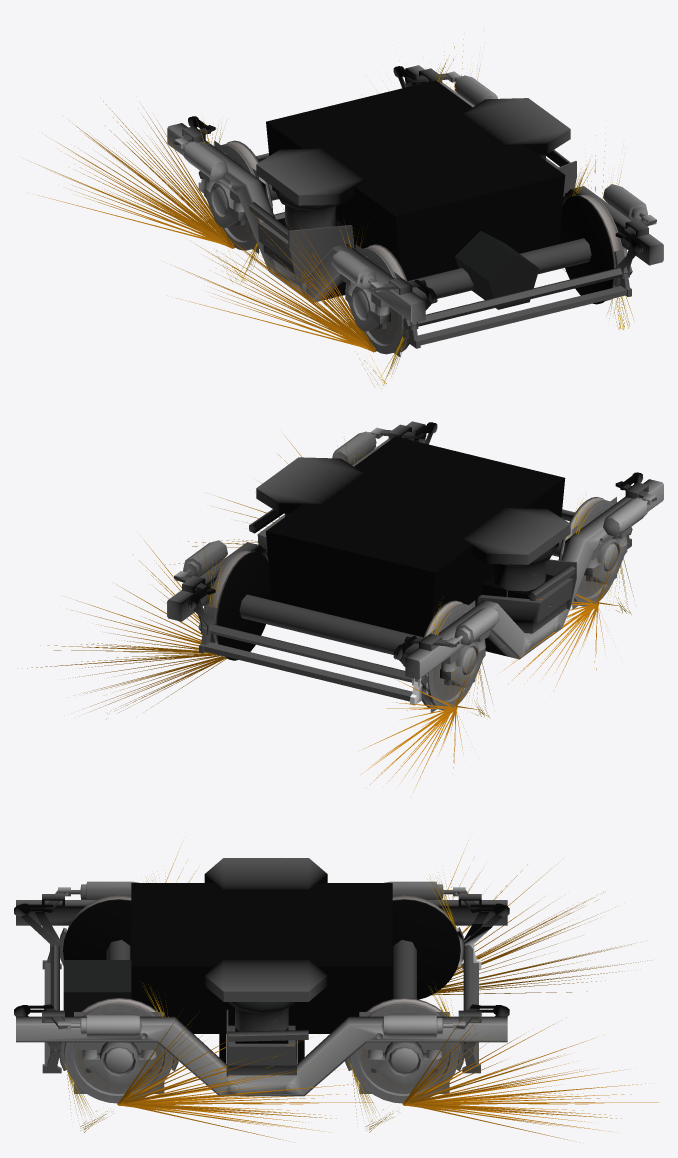
Rendered from JR2000_TRACK.glb.
3 renders of one model, top to bottom at view 1: azimuth 30°, elevation 25°; view 2: azimuth 150°, elevation 25°; view 3: azimuth 270°, elevation 25°, orthographic.
Parts seen in each view (by area): view 1: SPRING, HURIKO_BANK, obj13, FR1, SYAFT, FR0, WHEEL_FL, WFR_ROT, HURIKO, WFR_MDL, WRR_ROT, WHEEL_RR (+2 smaller); view 2: SPRING, HURIKO_BANK, SYAFT, Bar1, FL1, WHEEL_RL, FR1, HURIKO, FR0, WRR_ROT, WFR_ROT, WHEEL_RR (+3 smaller); view 3: SPRING, HURIKO_BANK, FL1, SYAFT, FL0, WHEEL_RR, WFR_MDL, FR1, WFL_ROT, WRL_ROT, obj13, Bar1 (+6 smaller).
Part boxes in pixels (left/top/right/bottom): SPRING: left=167, top=65, right=663, bottom=323; HURIKO_BANK: left=256, top=98, right=570, bottom=210; obj13: left=261, top=181, right=637, bottom=348; FR1: left=23, top=101, right=234, bottom=248; SYAFT: left=204, top=182, right=625, bottom=331; FR0: left=174, top=204, right=376, bottom=352; WHEEL_FL: left=559, top=194, right=622, bottom=304; WFR_ROT: left=355, top=244, right=401, bottom=357; HURIKO: left=277, top=155, right=545, bottom=230; WFR_MDL: left=358, top=244, right=409, bottom=354; WRR_ROT: left=214, top=140, right=258, bottom=253; WHEEL_RR: left=216, top=140, right=272, bottom=250; SPRING: left=167, top=421, right=663, bottom=679; HURIKO_BANK: left=256, top=457, right=570, bottom=566; SYAFT: left=204, top=538, right=627, bottom=687; Bar1: left=193, top=538, right=569, bottom=701; FL1: left=22, top=539, right=226, bottom=713; WHEEL_RL: left=208, top=550, right=271, bottom=660; FR1: left=358, top=631, right=483, bottom=796; HURIKO: left=285, top=513, right=553, bottom=598; FR0: left=503, top=527, right=624, bottom=687; WRR_ROT: left=429, top=600, right=475, bottom=712; WFR_ROT: left=572, top=497, right=616, bottom=608; WHEEL_RR: left=422, top=600, right=472, bottom=709; SPRING: left=16, top=881, right=507, bottom=1096; HURIKO_BANK: left=204, top=858, right=327, bottom=1013; FL1: left=402, top=1010, right=658, bottom=1140; SYAFT: left=84, top=940, right=439, bottom=1086; FL0: left=117, top=1011, right=373, bottom=1141; WHEEL_RR: left=392, top=895, right=460, bottom=999; WFR_MDL: left=63, top=895, right=131, bottom=959; FR1: left=431, top=840, right=649, bottom=995; WFL_ROT: left=65, top=1005, right=172, bottom=1102; WRL_ROT: left=351, top=1005, right=457, bottom=1102; obj13: left=21, top=912, right=351, bottom=1073; Bar1: left=171, top=912, right=502, bottom=1073.
Size of the model in its own units: 10.27 by 3.26 by 12.27.
Materials: 52 (32 with a texture image).
